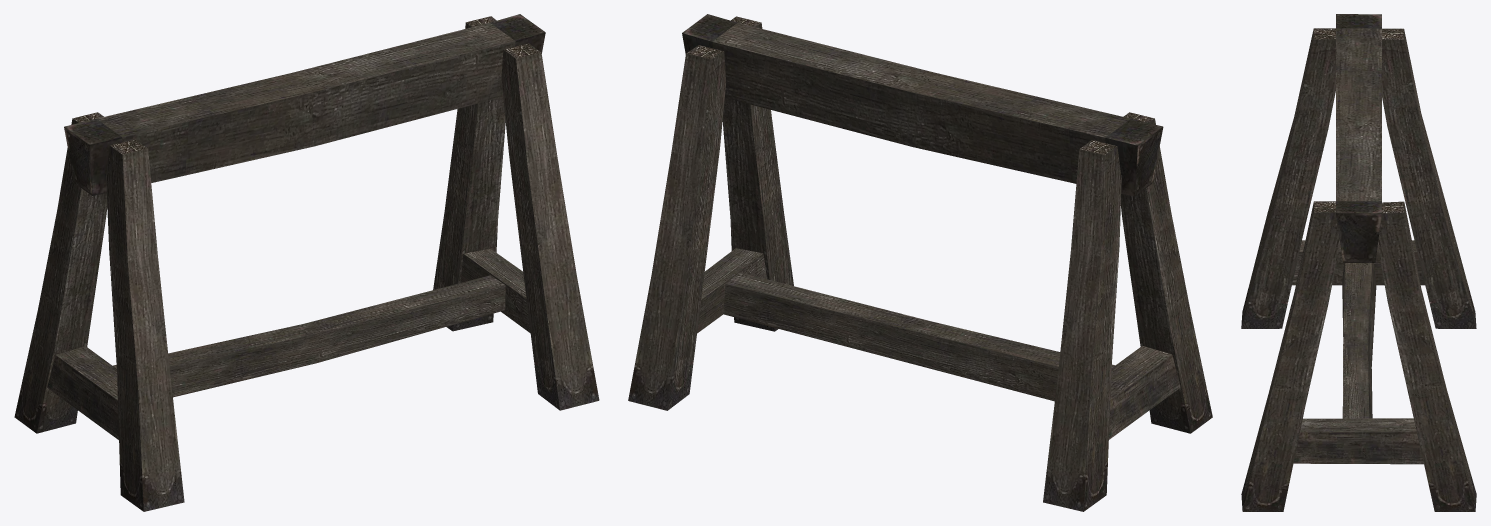
Rendered from eso_gu3_woodfurniture19-transformed.glb.
3 renders of one model, left to right at view 1: azimuth 30°, elevation 25°; view 2: azimuth 150°, elevation 25°; view 3: azimuth 270°, elevation 25°, orthographic. The views are drawn at different scales.
Visible parts, largest first — view 1: default; view 2: default; view 3: default.
Part boxes in pixels (x1,y1,x2,y2): default: (14, 14, 599, 511); default: (628, 14, 1212, 511); default: (1241, 14, 1476, 511).
Size of the model in its own units: 1.83 by 1.26 by 0.905.
1 material, 1 textured.
